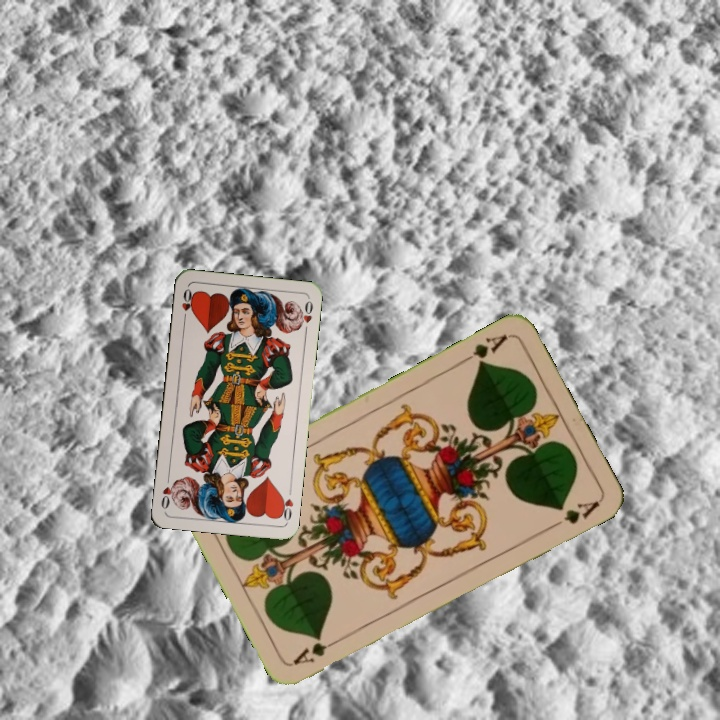GA: (456, 330, 511, 370), (289, 633, 345, 668)
HO: (275, 484, 296, 524), (177, 284, 197, 324)
